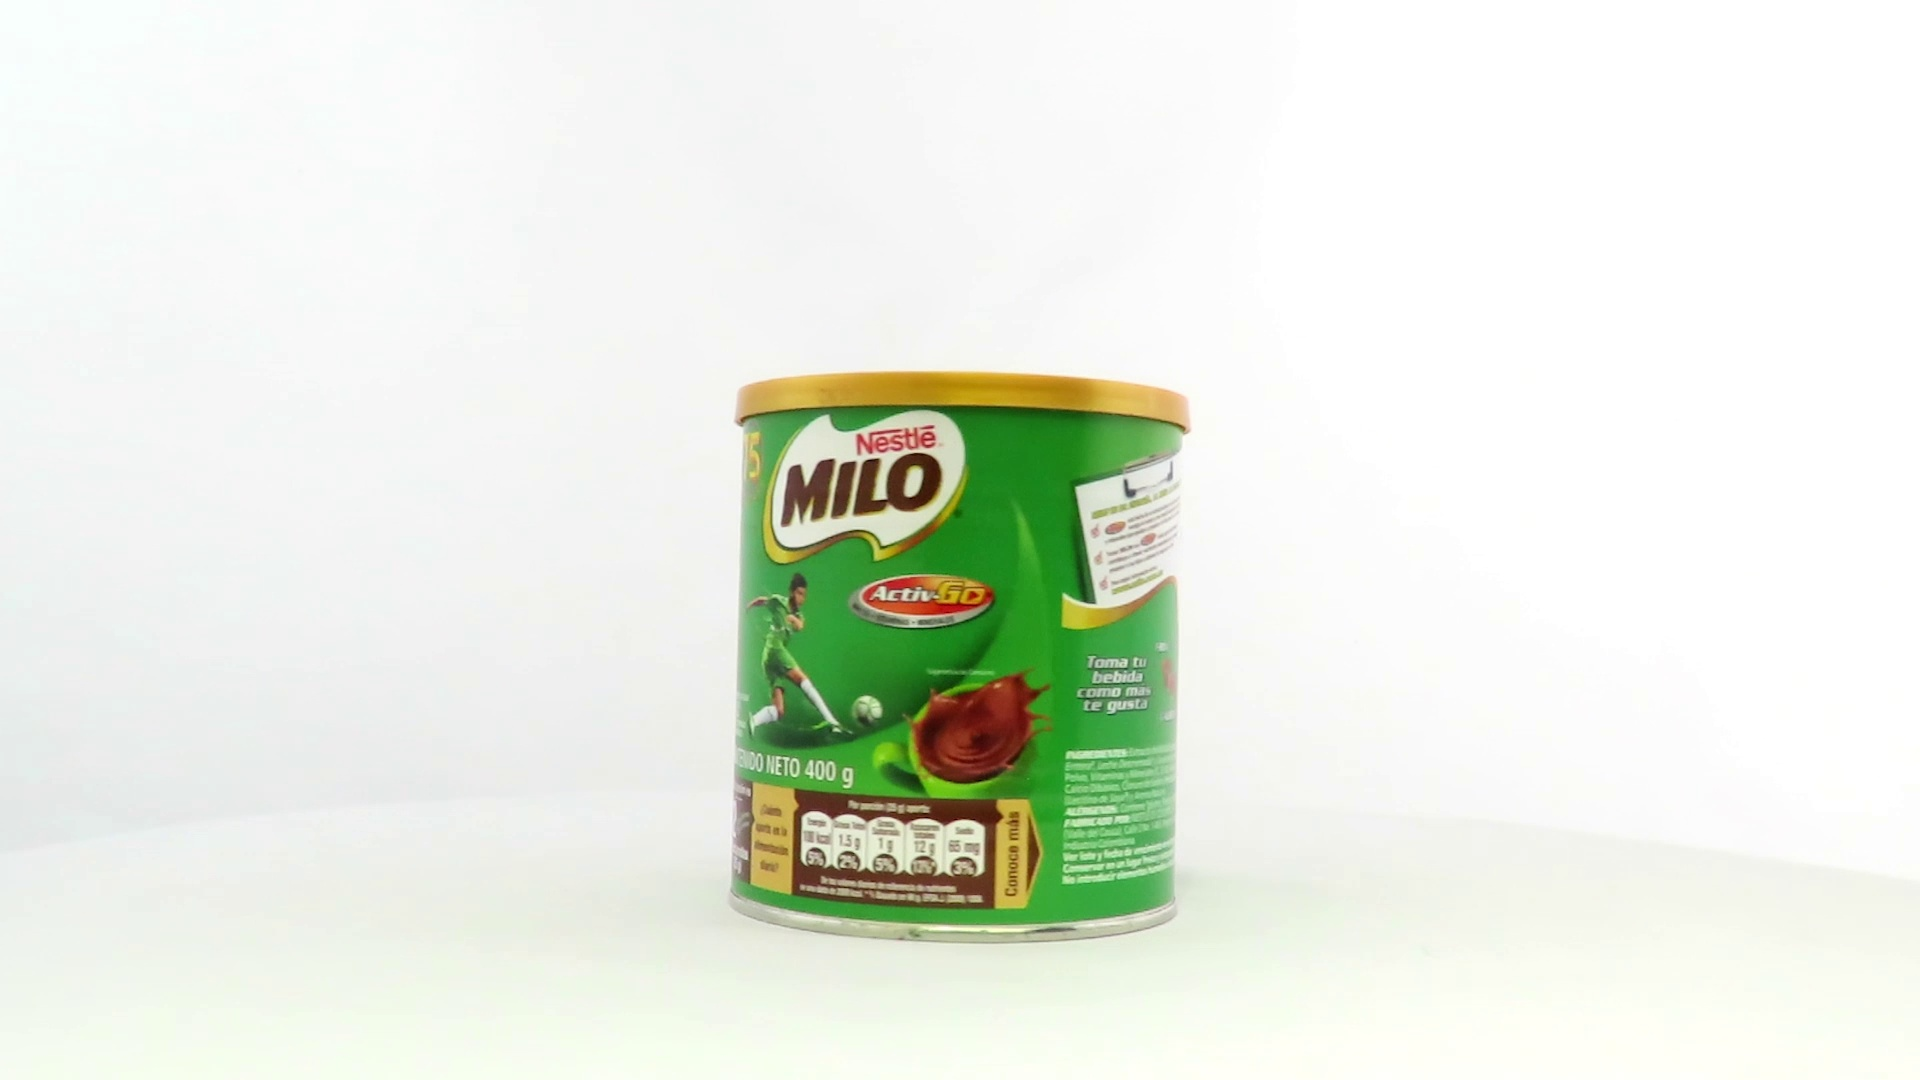COL0170203LAT40000: (723, 367, 1197, 949)
